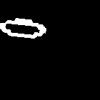chain: (0, 18, 45, 37)
